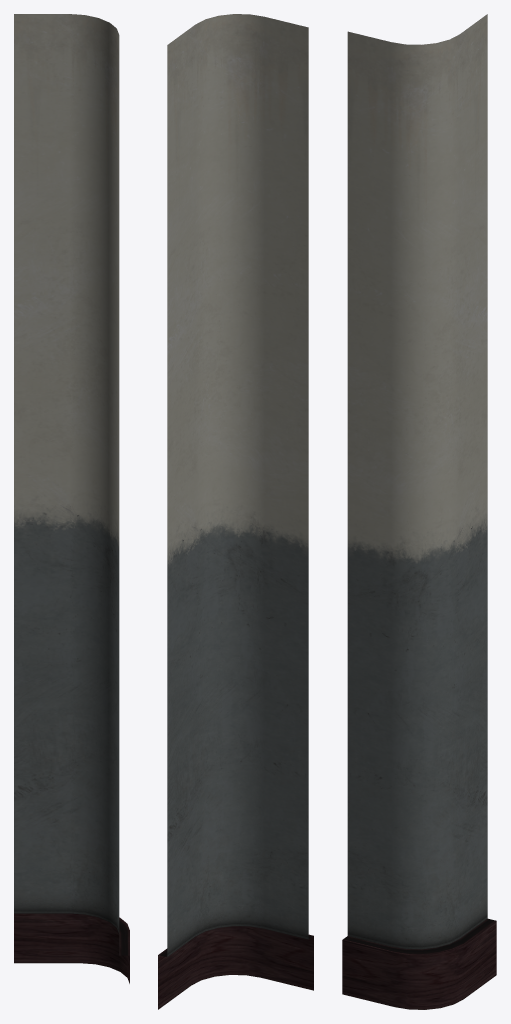
Rendered from Wall 4 Corner Pillar 2.fbx.
3 views of the same model, side by side, from view 1: azimuth 90°, elevation 25°; view 2: azimuth 150°, elevation 25°; view 3: azimuth 330°, elevation 25° (orthographic).
Visible parts, largest first — view 1: Wall_4_Corner_Pillar_2; view 2: Wall_4_Corner_Pillar_2; view 3: Wall_4_Corner_Pillar_2.
Boxes of the visible parts, <box> form: Wall_4_Corner_Pillar_2: <box>14,14,129,983</box>; Wall_4_Corner_Pillar_2: <box>158,14,313,1009</box>; Wall_4_Corner_Pillar_2: <box>342,14,496,1009</box>.
Bounding box in the file's own units: 31.5 × 300 × 33.
